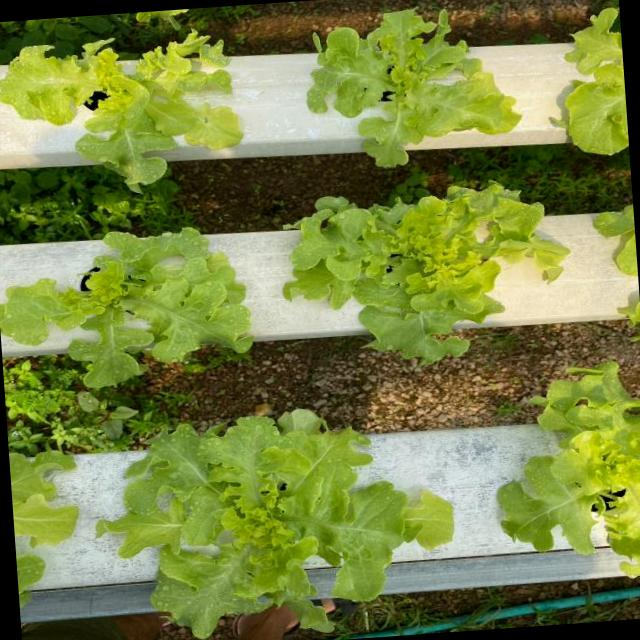Lettuce-Not-Ready-to-Harvest: (100, 410, 453, 637), (285, 184, 566, 362), (0, 228, 249, 386), (0, 33, 238, 188), (307, 10, 518, 165), (501, 362, 640, 572), (563, 8, 629, 152), (9, 453, 75, 543)
